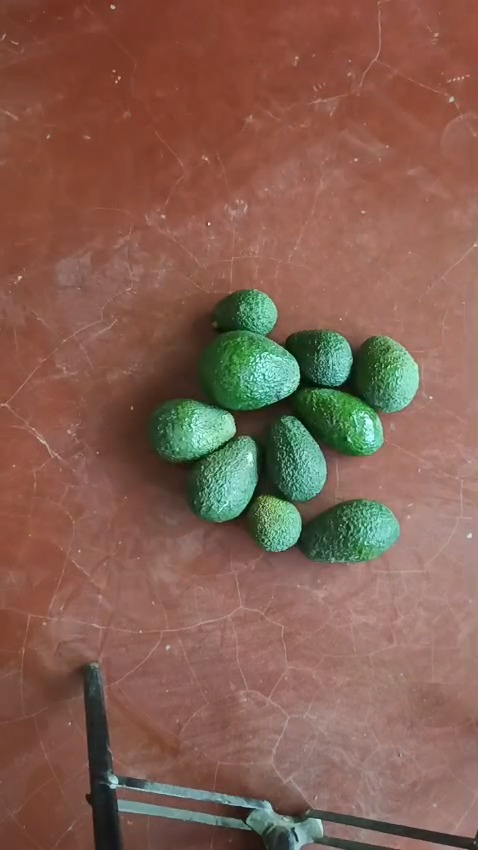Primera: (199, 331, 300, 411)
Segunda: (289, 386, 383, 457), (186, 435, 261, 522), (300, 497, 401, 561), (147, 399, 236, 463), (265, 413, 326, 501), (352, 335, 419, 412)
Tercera: (283, 329, 353, 388), (244, 494, 302, 551), (210, 289, 278, 337)
